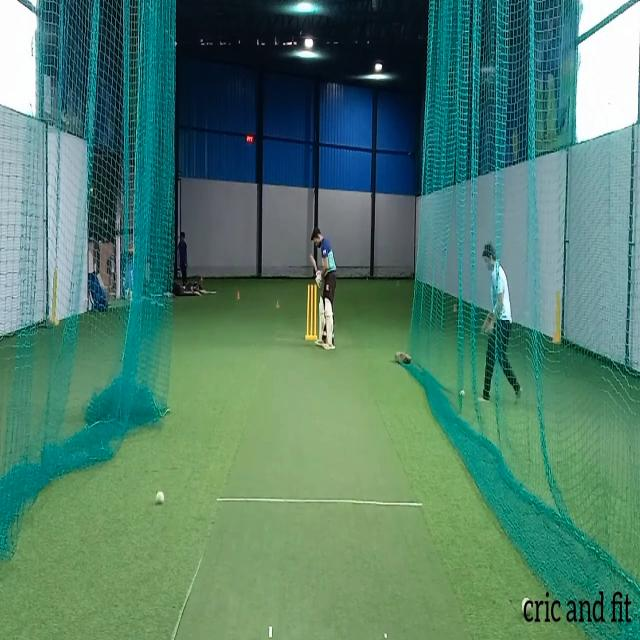batsman: (309, 226, 337, 351)
